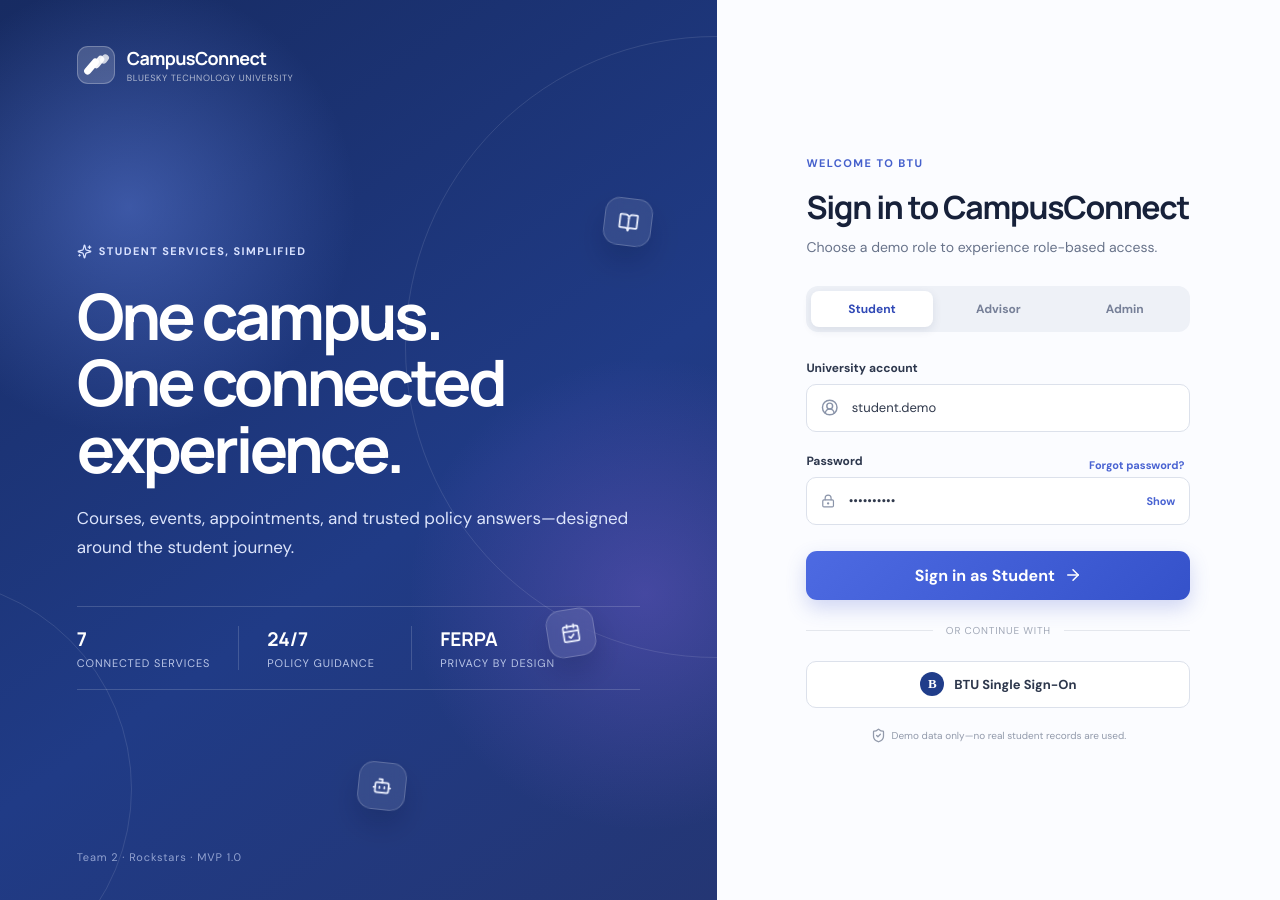
CampusConnect MVP › authenticates a student and enforces role-based observability access
Click the button "Sign in as Student": (998, 575) x1=806 y1=550 x2=1190 y2=600
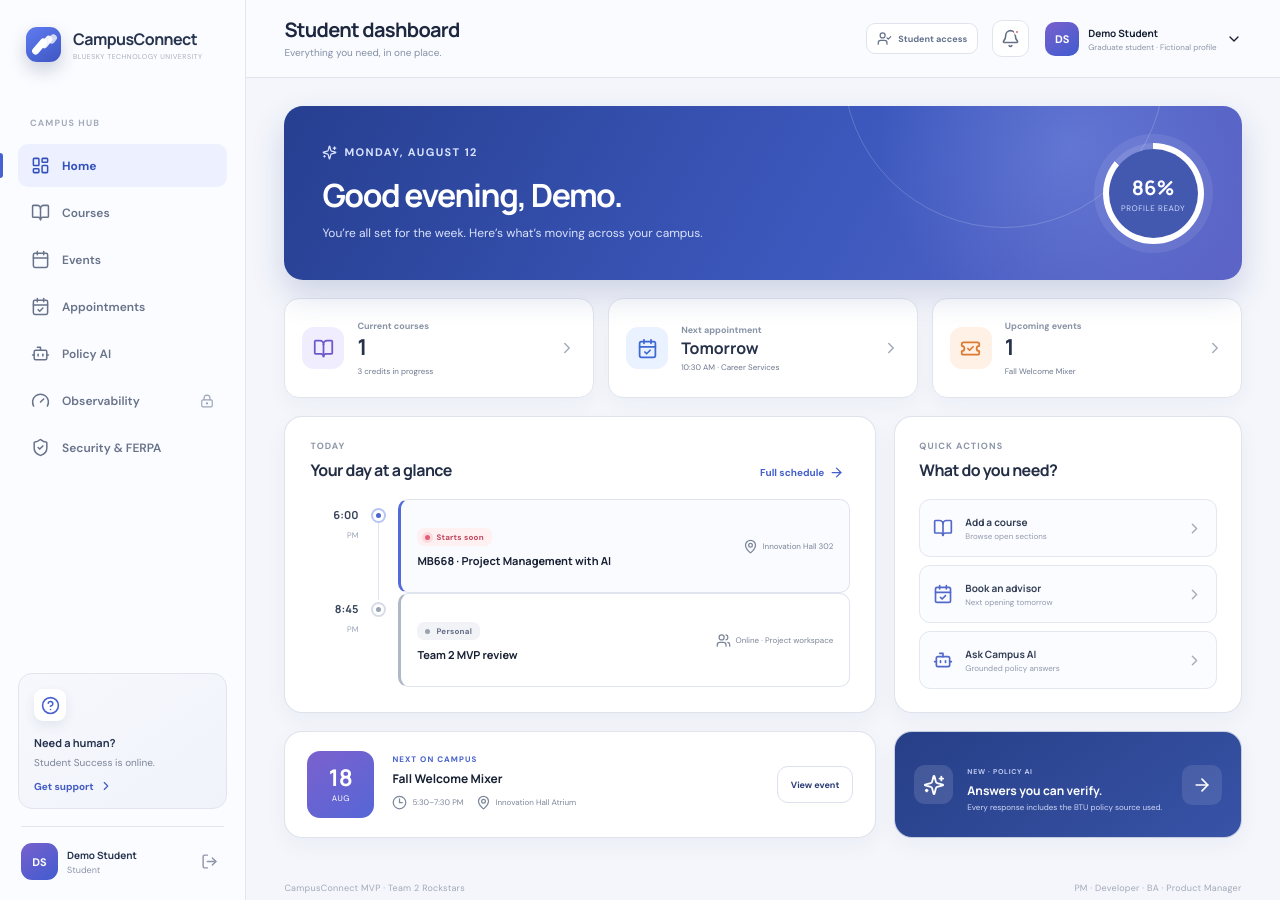
expect the heading "Student dashboard" is shown: met, box x1=284 y1=18 x2=460 y2=42
Click the button "Observability": (122, 400) x1=18 y1=379 x2=227 y2=422
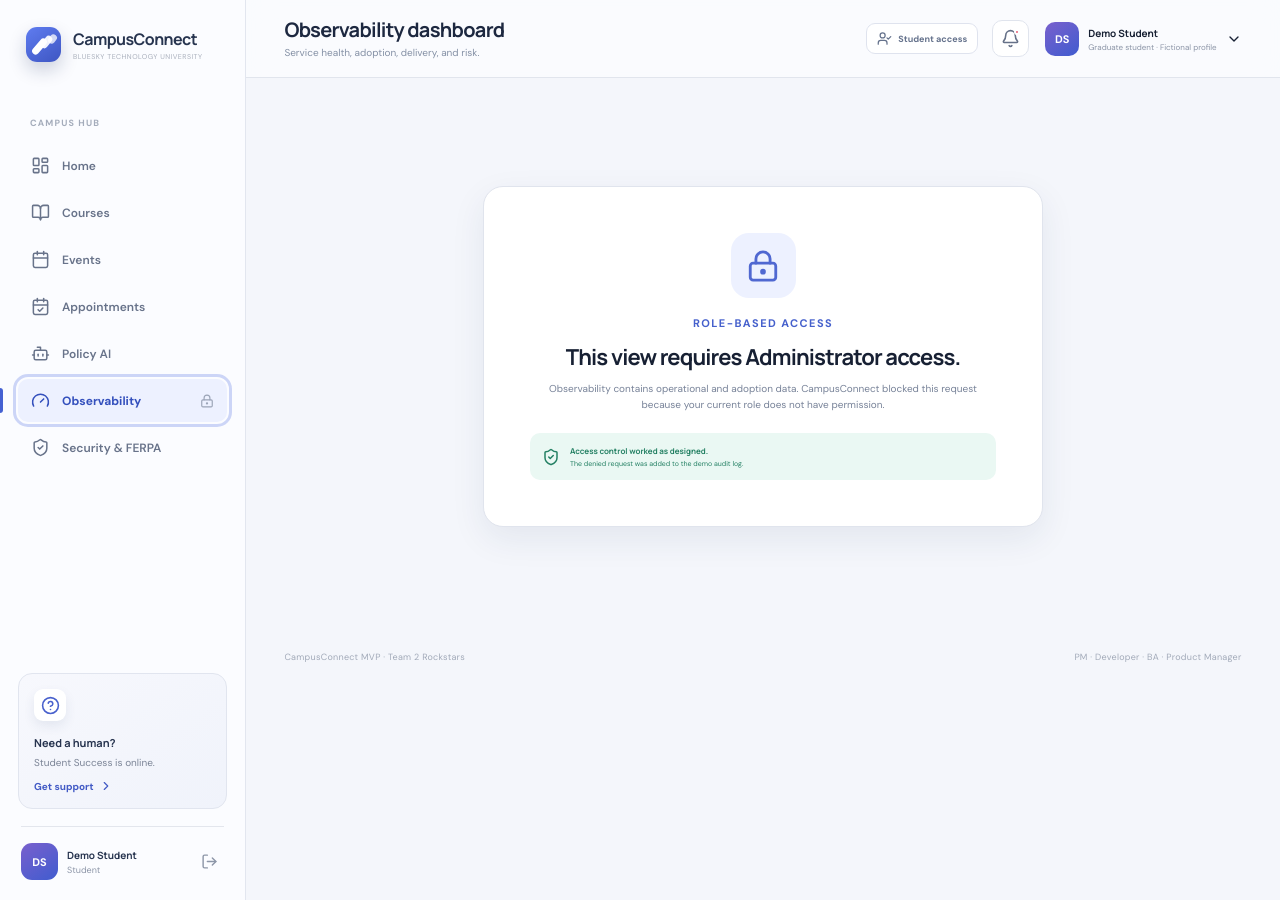
expect the heading "This view requires Administrator access." is shown: met, box x1=566 y1=342 x2=960 y2=372
